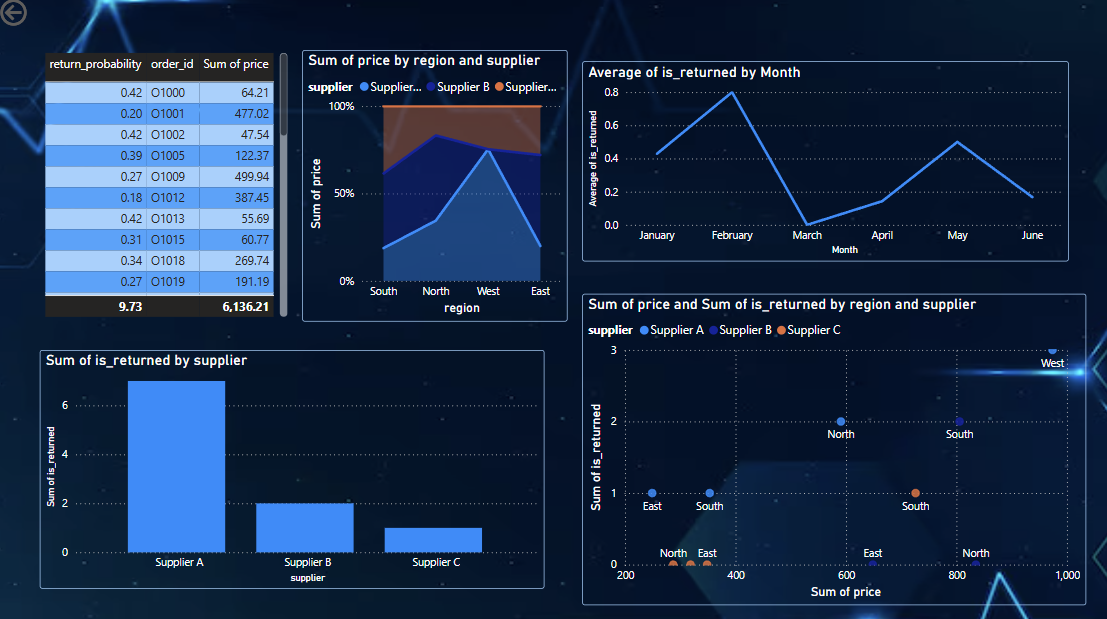

This screenshot's page, from the dashboard's own definition file:
{"tool":"powerbi","page":{"name":"Category Details","canvas":[1280,720],"ordinal":1},"visuals":[{"type":"tableEx","fields":{"Values":["Sum(merged_orders_with_risk.return_probability)","merged_orders_with_risk.order_id","Sum(merged_orders_with_risk.price)"]},"box":[50,61.4,288.6,311.4],"z":0},{"type":"actionButton","box":[0,0,100,40],"z":1000},{"type":"columnChart","fields":{"Category":["merged_orders_with_risk.supplier"],"Y":["Sum(merged_orders_with_risk.is_returned)"]},"box":[50,405.7,577.1,272.9],"z":2000},{"type":"lineChart","fields":{"Category":["merged_orders_with_risk.order_date.Variation.Date Hierarchy.Month"],"Y":["Avg(merged_orders_with_risk.is_returned)"]},"box":[670,75.7,555.7,228.6],"z":3000},{"type":"actionButton","box":[0,0,100,40],"z":4000},{"type":"scatterChart","fields":{"Category":["merged_orders_with_risk.region"],"X":["Sum(merged_orders_with_risk.price)"],"Y":["Sum(merged_orders_with_risk.is_returned)"],"Series":["merged_orders_with_risk.supplier"]},"box":[670,341.4,575.7,355.7],"z":4001},{"type":"hundredPercentStackedAreaChart","fields":{"Category":["merged_orders_with_risk.region"],"Series":["merged_orders_with_risk.supplier"],"Y":["Sum(merged_orders_with_risk.price)"]},"box":[350,62.9,302.9,310],"z":4002}]}

Visuals, with their boxes in screenshot pixels (x1, y1, x2, y2), scaled from the page's 1280x720 canvas onto the 1107x619 screenshot:
tableEx - Sum(merged_orders_with_risk.return_probability) x merged_orders_with_risk.order_id: 43:53:293:321
actionButton: 0:0:86:34
columnChart - merged_orders_with_risk.supplier x Sum(merged_orders_with_risk.is_returned): 43:349:542:583
lineChart - merged_orders_with_risk.order_date.Variation.Date Hierarchy.Month x Avg(merged_orders_with_risk.is_returned): 579:65:1060:262
actionButton: 0:0:86:34
scatterChart - merged_orders_with_risk.region x Sum(merged_orders_with_risk.price): 579:294:1077:599
hundredPercentStackedAreaChart - merged_orders_with_risk.region x merged_orders_with_risk.supplier: 303:54:565:321
